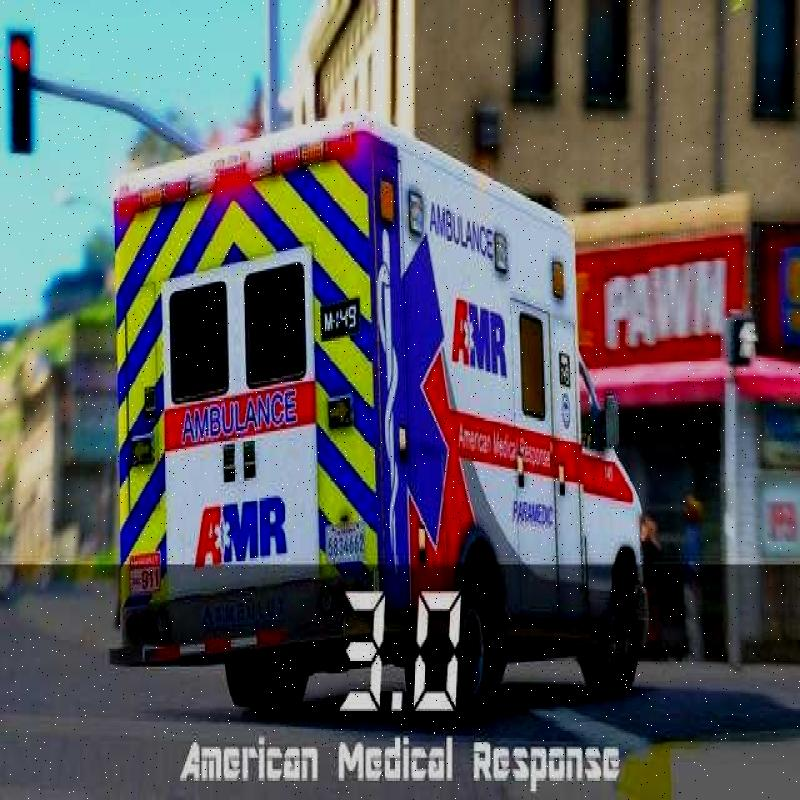AmbulanceSiren: (120, 130, 382, 222)
